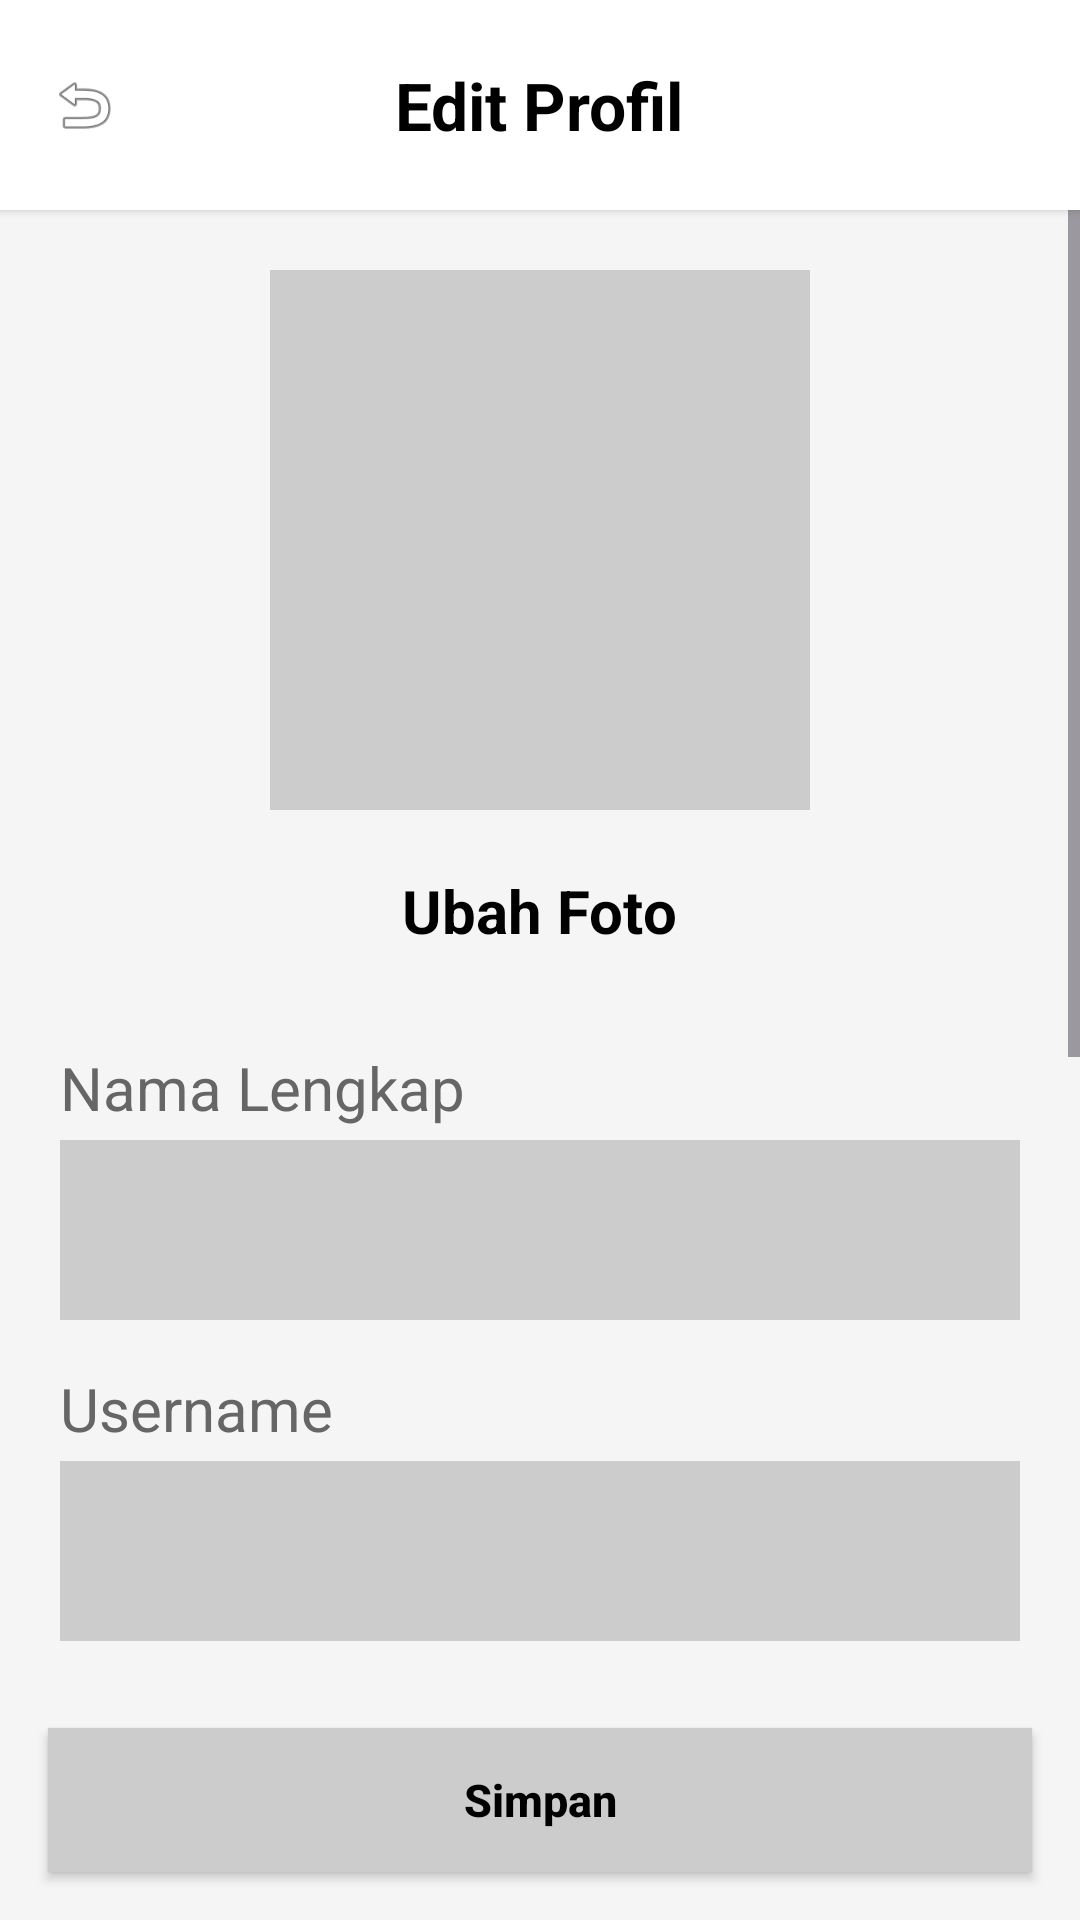

Screen size 1080×1920. Icon name, then its box in pixels as box=[x1, y1, x2, y2]:
Kembali: box=[59, 82, 111, 129]
